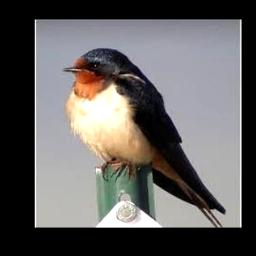Swallow: (62, 47, 227, 228)
